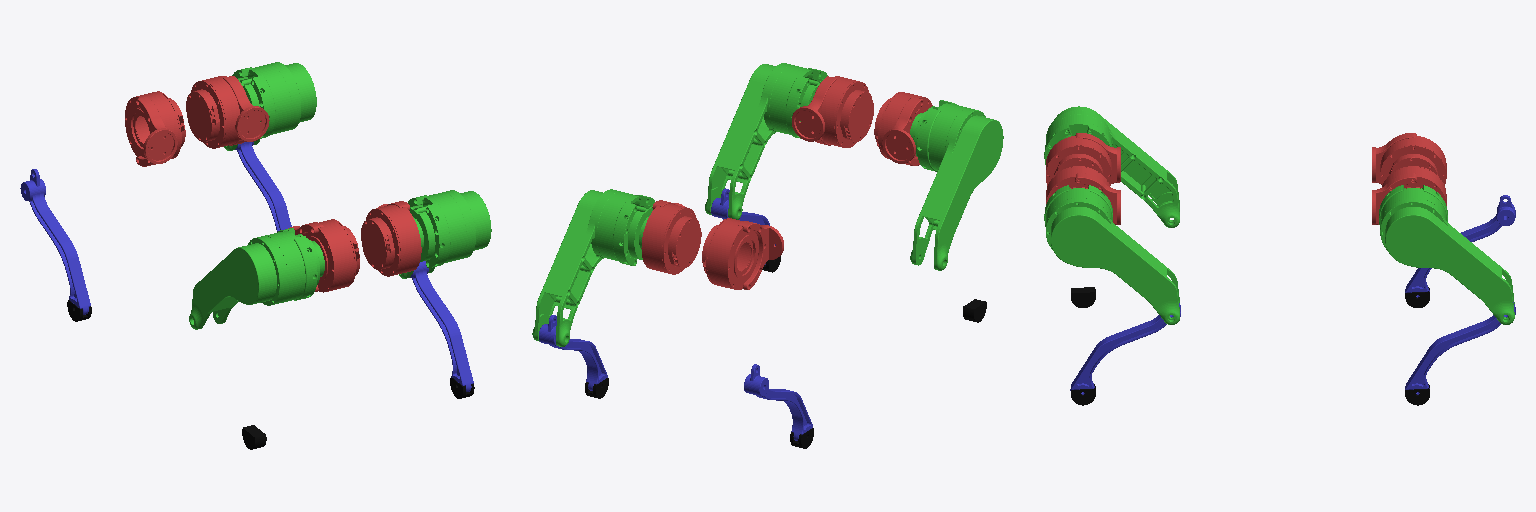
URDF robot description (CRA_373):
<?xml version="1.0" encoding="utf-8"?>
<!--
  CRA-373 Quadruped Robot URDF (Isaac Sim Version)
  Generated: 2026-08-11
  
  Coordinate: Z-up (Isaac Sim / USD standard)
  All mesh transforms baked into STL vertices
  Mesh unit: meters (scale="1 1 1")
  Path: ASCII only, no special characters

  [sim] 2026-09-15 modifications for Isaac Lab / RL training. Search "[sim]" for the list.
  1. Joint velocity limit 209.44 -> 20.944 rad/s on all 12 revolute joints.
     The actuator model gives the joint (output-side) no-load speed as 200 rpm = 20.944 rad/s
     (XB42MCfg.max_velocity). The old value is 209.44 rad/s = 2000 rpm, exactly 10x that, so it
     is a decimal slip rather than a gear-ratio confusion (the reducer is 1:9, not 1:10).
     Isaac Lab writes this to PhysX as velocity_limit_sim, so the error let the joints spin ten
     times faster than the real actuator can.
  2. FR_hip / FL_hip inertial block mirrored in y.
     The front hip MESH is the rear hip mirrored about the x-z plane (mesh centre y -0.0607 vs
     +0.0607), but the inertial block was copied from the rear unchanged, putting 1.45 kg of
     hip mass 0.118 m away from its own geometry on both front legs. com y and the ixy / iyz
     products are now mirrored to match.
  3. Foot inertial origin moved from the link frame origin to the foot geometry.
     The foot link frame sits at the calf joint + (0, 0.154173, 0), while the baked foot mesh
     sits at (+-0.0145, -0.2949, -0.1487) in that frame, i.e. 0.33 m away. The 0.05 kg foot mass
     was therefore placed near the knee instead of at the toe, adding ~0.0054 kg m^2 of phantom
     inertia about the knee (the calf's own ixx is only 0.0043). The inertia tensor is now the
     solid-box estimate for the 20 x 40 x 28.5 mm pad instead of the 1e-4 placeholder.

  4. Collision geometry now points at meshes/collision/, the precomputed convex hulls written
     by scripts/make_collision_meshes.py (530,757 triangles -> 8,152 over the 17 links).
     The importer is configured with collider_type=convex_hull, so PhysX reduced each mesh to
     its hull anyway; precomputing it means the hull is not re-cooked from 539k vertices on
     every load. The collision shape is unchanged. <visual> still uses the full-resolution
     meshes, so the robot still looks like the CAD export.

  NOT changed on purpose:
  - Joint <dynamics>: absent, so damping = friction = 0. Joint friction is modelled once inside
    cra373/actuator/XB42M.py (Coulomb 0.67 Nm); do not also add it here.
  - effort="60.0": XB42M is an explicit actuator, so Isaac sets effort_limit_sim = 1e9 and the
    real torque ceiling is the T-N curve inside XB42MActuator.compute().
  - Masses and inertia magnitudes: 68.16 kg total is confirmed by the robot owner.
-->
<robot name="CRA_373">

  <material name="body_color">  <color rgba="0.50 0.60 0.70 1.0"/> </material>
  <material name="hip_color">   <color rgba="0.80 0.30 0.30 1.0"/> </material>
  <material name="thigh_color"> <color rgba="0.30 0.80 0.30 1.0"/> </material>
  <material name="calf_color">  <color rgba="0.30 0.30 0.80 1.0"/> </material>
  <material name="foot_color">  <color rgba="0.10 0.10 0.10 1.0"/> </material>

  <!-- ==================== BASE LINK ==================== -->
  <link name="base_link">
    <inertial>
      <!-- [sim] com x 0.016986 -> 0, and the ixy / ixz products -> 0.
           The body is left-right symmetric: the base mesh bounding box is centred at x = 0.000
           and the four hip joints sit at x = +-0.081. A centre of mass 17 mm off that centreline
           contradicts the geometry, and on 44.8 kg it is a standing lateral moment the policy
           has to fight every step. Measured on the policy trained with the offset: commanded
           straight ahead at 2 m/s the robot slid 1.32 m sideways over 17 m.
           For a body symmetric about the x = 0 plane the integrals for ixy and ixz vanish too,
           so those are zeroed; iyz is unaffected by that symmetry and is left alone. -->
      <origin xyz="0.0 -0.203646 -0.005118" rpy="0 0 0"/>
      <mass value="44.830903"/>
      <inertia ixx="0.727300" ixy="0.0" ixz="0.0"
               iyy="0.350700" iyz="0.022770" izz="0.952300"/>
    </inertial>
    <visual>
      <origin xyz="0 0 0" rpy="0 0 0"/>
      <geometry>
        <mesh filename="meshes/base_link.stl"/>
      </geometry>
      <material name="body_color"/>
    </visual>
    <collision>
      <origin xyz="0 0 0" rpy="0 0 0"/>
      <geometry>
        <mesh filename="meshes/collision/base_link.stl"/>
      </geometry>
    </collision>
  </link>

  <!-- ==================== RR LEG (Right Rear) ==================== -->
  <link name="RR_hip">
    <inertial>
      <origin xyz="0.020377 0.059012 0.000393" rpy="0 0 0"/>
      <mass value="1.454366"/>
      <inertia ixx="0.002957" ixy="-0.000229" ixz="0.000003"
               iyy="0.001744" iyz="-0.000001" izz="0.002087"/>
    </inertial>
    <visual>
      <origin xyz="0 0 0" rpy="0 0 0"/>
      <geometry><mesh filename="meshes/RR_hip.stl"/></geometry>
      <material name="hip_color"/>
    </visual>
    <collision>
      <origin xyz="0 0 0" rpy="0 0 0"/>
      <geometry><mesh filename="meshes/collision/RR_hip.stl"/></geometry>
    </collision>
  </link>
  <link name="RR_thigh">
    <inertial>
      <origin xyz="-0.070367 0.023197 -0.015690" rpy="0 0 0"/>
      <mass value="3.728289"/>
      <inertia ixx="0.017610" ixy="0.003081" ixz="-0.002084"
               iyy="0.012070" iyz="0.005899" izz="0.015480"/>
    </inertial>
    <visual>
      <origin xyz="0 0 0" rpy="0 0 0"/>
      <geometry><mesh filename="meshes/RR_thigh.stl"/></geometry>
      <material name="thigh_color"/>
    </visual>
    <collision>
      <origin xyz="0 0 0" rpy="0 0 0"/>
      <geometry><mesh filename="meshes/collision/RR_thigh.stl"/></geometry>
    </collision>
  </link>
  <link name="RR_calf">
    <inertial>
      <origin xyz="-0.014441 -0.078492 -0.067892" rpy="0 0 0"/>
      <mass value="0.600330"/>
      <inertia ixx="0.004290" ixy="-0.000003" ixz="-0.000003"
               iyy="0.002116" iyz="-0.002034" izz="0.002219"/>
    </inertial>
    <visual>
      <origin xyz="0 0 0" rpy="0 0 0"/>
      <geometry><mesh filename="meshes/RR_calf.stl"/></geometry>
      <material name="calf_color"/>
    </visual>
    <collision>
      <origin xyz="0 0 0" rpy="0 0 0"/>
      <geometry><mesh filename="meshes/collision/RR_calf.stl"/></geometry>
    </collision>
  </link>
  <link name="RR_foot">
    <inertial><origin xyz="-0.014499 -0.294911 -0.148672" rpy="0 0 0"/><mass value="0.05"/>
      <inertia ixx="1.004e-05" ixy="0" ixz="0" iyy="5.041e-06" iyz="0" izz="8.333e-06"/></inertial>
    <visual>
      <origin xyz="0 0 0" rpy="0 0 0"/>
      <geometry><mesh filename="meshes/RR_foot.stl"/></geometry>
      <material name="foot_color"/>
    </visual>
    <collision>
      <origin xyz="0 0 0" rpy="0 0 0"/>
      <geometry><mesh filename="meshes/collision/RR_foot.stl"/></geometry>
    </collision>
  </link>

  <joint name="RR_hip_joint" type="revolute">
    <parent link="base_link"/><child link="RR_hip"/>
    <origin xyz="-0.081 -0.005 0.0" rpy="0 0 0"/>
    <axis xyz="0 1 0"/>
    <limit lower="-1.5708" upper="1.5708" effort="60.0" velocity="20.944"/>
  </joint>
  <joint name="RR_thigh_joint" type="revolute">
    <parent link="RR_hip"/><child link="RR_thigh"/>
    <origin xyz="0.0015 0.0675 0.0" rpy="0 0 0"/>
    <axis xyz="1 0 0"/>
    <limit lower="-1.5708" upper="0.7854" effort="60.0" velocity="20.944"/>
  </joint>
  <joint name="RR_calf_joint" type="revolute">
    <parent link="RR_thigh"/><child link="RR_calf"/>
    <origin xyz="-0.0894 0.148022 -0.134497" rpy="0 0 0"/>
    <axis xyz="1 0 0"/>
    <limit lower="-1.0821" upper="1.0821" effort="60.0" velocity="20.944"/>
  </joint>
  <joint name="RR_foot_fixed" type="fixed">
    <parent link="RR_calf"/><child link="RR_foot"/>
    <origin xyz="0.0 0.154173 0.0" rpy="0 0 0"/>
  </joint>

  <!-- ==================== FR LEG (Right Front) ==================== -->
  <link name="FR_hip">
    <inertial>
      <origin xyz="0.020377 -0.059012 0.000393" rpy="0 0 0"/>
      <mass value="1.454366"/>
      <inertia ixx="0.002957" ixy="0.000229" ixz="0.000003"
               iyy="0.001744" iyz="0.000001" izz="0.002087"/>
    </inertial>
    <visual>
      <origin xyz="0 0 0" rpy="0 0 0"/>
      <geometry><mesh filename="meshes/FR_hip.stl"/></geometry>
      <material name="hip_color"/>
    </visual>
    <collision>
      <origin xyz="0 0 0" rpy="0 0 0"/>
      <geometry><mesh filename="meshes/collision/FR_hip.stl"/></geometry>
    </collision>
  </link>
  <link name="FR_thigh">
    <inertial>
      <origin xyz="-0.070367 0.023197 -0.015690" rpy="0 0 0"/>
      <mass value="3.728289"/>
      <inertia ixx="0.017610" ixy="0.003081" ixz="-0.002084"
               iyy="0.012070" iyz="0.005899" izz="0.015480"/>
    </inertial>
    <visual>
      <origin xyz="0 0 0" rpy="0 0 0"/>
      <geometry><mesh filename="meshes/FR_thigh.stl"/></geometry>
      <material name="thigh_color"/>
    </visual>
    <collision>
      <origin xyz="0 0 0" rpy="0 0 0"/>
      <geometry><mesh filename="meshes/collision/FR_thigh.stl"/></geometry>
    </collision>
  </link>
  <link name="FR_calf">
    <inertial>
      <origin xyz="-0.014441 -0.078492 -0.067892" rpy="0 0 0"/>
      <mass value="0.600330"/>
      <inertia ixx="0.004290" ixy="-0.000003" ixz="-0.000003"
               iyy="0.002116" iyz="-0.002034" izz="0.002219"/>
    </inertial>
    <visual>
      <origin xyz="0 0 0" rpy="0 0 0"/>
      <geometry><mesh filename="meshes/FR_calf.stl"/></geometry>
      <material name="calf_color"/>
    </visual>
    <collision>
      <origin xyz="0 0 0" rpy="0 0 0"/>
      <geometry><mesh filename="meshes/collision/FR_calf.stl"/></geometry>
    </collision>
  </link>
  <link name="FR_foot">
    <inertial><origin xyz="-0.014499 -0.294911 -0.148672" rpy="0 0 0"/><mass value="0.05"/>
      <inertia ixx="1.004e-05" ixy="0" ixz="0" iyy="5.041e-06" iyz="0" izz="8.333e-06"/></inertial>
    <visual>
      <origin xyz="0 0 0" rpy="0 0 0"/>
      <geometry><mesh filename="meshes/FR_foot.stl"/></geometry>
      <material name="foot_color"/>
    </visual>
    <collision>
      <origin xyz="0 0 0" rpy="0 0 0"/>
      <geometry><mesh filename="meshes/collision/FR_foot.stl"/></geometry>
    </collision>
  </link>

  <joint name="FR_hip_joint" type="revolute">
    <parent link="base_link"/><child link="FR_hip"/>
    <origin xyz="-0.081 -0.404 0.0" rpy="0 0 0"/>
    <axis xyz="0 1 0"/>
    <limit lower="-1.5708" upper="1.5708" effort="60.0" velocity="20.944"/>
  </joint>
  <joint name="FR_thigh_joint" type="revolute">
    <parent link="FR_hip"/><child link="FR_thigh"/>
    <origin xyz="0.0015 -0.0675 0.0" rpy="0 0 0"/>
    <axis xyz="1 0 0"/>
    <limit lower="-1.5708" upper="0.7854" effort="60.0" velocity="20.944"/>
  </joint>
  <joint name="FR_calf_joint" type="revolute">
    <parent link="FR_thigh"/><child link="FR_calf"/>
    <origin xyz="-0.0894 0.148022 -0.134497" rpy="0 0 0"/>
    <axis xyz="1 0 0"/>
    <limit lower="-1.0821" upper="1.0821" effort="60.0" velocity="20.944"/>
  </joint>
  <joint name="FR_foot_fixed" type="fixed">
    <parent link="FR_calf"/><child link="FR_foot"/>
    <origin xyz="0.0 0.154173 0.0" rpy="0 0 0"/>
  </joint>

  <!-- ==================== RL LEG (Left Rear) ==================== -->
  <link name="RL_hip">
    <inertial>
      <origin xyz="-0.020377 0.059012 0.000393" rpy="0 0 0"/>
      <mass value="1.454366"/>
      <inertia ixx="0.002957" ixy="0.000229" ixz="-0.000003"
               iyy="0.001744" iyz="-0.000001" izz="0.002087"/>
    </inertial>
    <visual>
      <origin xyz="0 0 0" rpy="0 0 0"/>
      <geometry><mesh filename="meshes/RL_hip.stl"/></geometry>
      <material name="hip_color"/>
    </visual>
    <collision>
      <origin xyz="0 0 0" rpy="0 0 0"/>
      <geometry><mesh filename="meshes/collision/RL_hip.stl"/></geometry>
    </collision>
  </link>
  <link name="RL_thigh">
    <inertial>
      <origin xyz="0.070367 0.023197 -0.015690" rpy="0 0 0"/>
      <mass value="3.728289"/>
      <inertia ixx="0.017610" ixy="-0.003081" ixz="0.002084"
               iyy="0.012070" iyz="0.005899" izz="0.015480"/>
    </inertial>
    <visual>
      <origin xyz="0 0 0" rpy="0 0 0"/>
      <geometry><mesh filename="meshes/RL_thigh.stl"/></geometry>
      <material name="thigh_color"/>
    </visual>
    <collision>
      <origin xyz="0 0 0" rpy="0 0 0"/>
      <geometry><mesh filename="meshes/collision/RL_thigh.stl"/></geometry>
    </collision>
  </link>
  <link name="RL_calf">
    <inertial>
      <origin xyz="0.014441 -0.078492 -0.067892" rpy="0 0 0"/>
      <mass value="0.600330"/>
      <inertia ixx="0.004290" ixy="0.000003" ixz="0.000003"
               iyy="0.002116" iyz="-0.002034" izz="0.002219"/>
    </inertial>
    <visual>
      <origin xyz="0 0 0" rpy="0 0 0"/>
      <geometry><mesh filename="meshes/RL_calf.stl"/></geometry>
      <material name="calf_color"/>
    </visual>
    <collision>
      <origin xyz="0 0 0" rpy="0 0 0"/>
      <geometry><mesh filename="meshes/collision/RL_calf.stl"/></geometry>
    </collision>
  </link>
  <link name="RL_foot">
    <inertial><origin xyz="0.014501 -0.294911 -0.148671" rpy="0 0 0"/><mass value="0.05"/>
      <inertia ixx="1.004e-05" ixy="0" ixz="0" iyy="5.041e-06" iyz="0" izz="8.333e-06"/></inertial>
    <visual>
      <origin xyz="0 0 0" rpy="0 0 0"/>
      <geometry><mesh filename="meshes/RL_foot.stl"/></geometry>
      <material name="foot_color"/>
    </visual>
    <collision>
      <origin xyz="0 0 0" rpy="0 0 0"/>
      <geometry><mesh filename="meshes/collision/RL_foot.stl"/></geometry>
    </collision>
  </link>

  <joint name="RL_hip_joint" type="revolute">
    <parent link="base_link"/><child link="RL_hip"/>
    <origin xyz="0.081 -0.005 0.0" rpy="0 0 0"/>
    <axis xyz="0 1 0"/>
    <limit lower="-1.5708" upper="1.5708" effort="60.0" velocity="20.944"/>
  </joint>
  <joint name="RL_thigh_joint" type="revolute">
    <parent link="RL_hip"/><child link="RL_thigh"/>
    <origin xyz="-0.0015 0.0675 0.0" rpy="0 0 0"/>
    <axis xyz="1 0 0"/>
    <limit lower="-1.5708" upper="0.7854" effort="60.0" velocity="20.944"/>
  </joint>
  <joint name="RL_calf_joint" type="revolute">
    <parent link="RL_thigh"/><child link="RL_calf"/>
    <origin xyz="0.0894 0.148022 -0.134497" rpy="0 0 0"/>
    <axis xyz="1 0 0"/>
    <limit lower="-1.0821" upper="1.0821" effort="60.0" velocity="20.944"/>
  </joint>
  <joint name="RL_foot_fixed" type="fixed">
    <parent link="RL_calf"/><child link="RL_foot"/>
    <origin xyz="0.0 0.154173 0.0" rpy="0 0 0"/>
  </joint>

  <!-- ==================== FL LEG (Left Front) ==================== -->
  <link name="FL_hip">
    <inertial>
      <origin xyz="-0.020377 -0.059012 0.000393" rpy="0 0 0"/>
      <mass value="1.454366"/>
      <inertia ixx="0.002957" ixy="-0.000229" ixz="-0.000003"
               iyy="0.001744" iyz="0.000001" izz="0.002087"/>
    </inertial>
    <visual>
      <origin xyz="0 0 0" rpy="0 0 0"/>
      <geometry><mesh filename="meshes/FL_hip.stl"/></geometry>
      <material name="hip_color"/>
    </visual>
    <collision>
      <origin xyz="0 0 0" rpy="0 0 0"/>
      <geometry><mesh filename="meshes/collision/FL_hip.stl"/></geometry>
    </collision>
  </link>
  <link name="FL_thigh">
    <inertial>
      <origin xyz="0.070367 0.023197 -0.015690" rpy="0 0 0"/>
      <mass value="3.728289"/>
      <inertia ixx="0.017610" ixy="-0.003081" ixz="0.002084"
               iyy="0.012070" iyz="0.005899" izz="0.015480"/>
    </inertial>
    <visual>
      <origin xyz="0 0 0" rpy="0 0 0"/>
      <geometry><mesh filename="meshes/FL_thigh.stl"/></geometry>
      <material name="thigh_color"/>
    </visual>
    <collision>
      <origin xyz="0 0 0" rpy="0 0 0"/>
      <geometry><mesh filename="meshes/collision/FL_thigh.stl"/></geometry>
    </collision>
  </link>
  <link name="FL_calf">
    <inertial>
      <origin xyz="0.014441 -0.078492 -0.067892" rpy="0 0 0"/>
      <mass value="0.600330"/>
      <inertia ixx="0.004290" ixy="0.000003" ixz="0.000003"
               iyy="0.002116" iyz="-0.002034" izz="0.002219"/>
    </inertial>
    <visual>
      <origin xyz="0 0 0" rpy="0 0 0"/>
      <geometry><mesh filename="meshes/FL_calf.stl"/></geometry>
      <material name="calf_color"/>
    </visual>
    <collision>
      <origin xyz="0 0 0" rpy="0 0 0"/>
      <geometry><mesh filename="meshes/collision/FL_calf.stl"/></geometry>
    </collision>
  </link>
  <link name="FL_foot">
    <inertial><origin xyz="0.014499 -0.294912 -0.148672" rpy="0 0 0"/><mass value="0.05"/>
      <inertia ixx="1.004e-05" ixy="0" ixz="0" iyy="5.041e-06" iyz="0" izz="8.333e-06"/></inertial>
    <visual>
      <origin xyz="0 0 0" rpy="0 0 0"/>
      <geometry><mesh filename="meshes/FL_foot.stl"/></geometry>
      <material name="foot_color"/>
    </visual>
    <collision>
      <origin xyz="0 0 0" rpy="0 0 0"/>
      <geometry><mesh filename="meshes/collision/FL_foot.stl"/></geometry>
    </collision>
  </link>

  <joint name="FL_hip_joint" type="revolute">
    <parent link="base_link"/><child link="FL_hip"/>
    <origin xyz="0.081 -0.404 0.0" rpy="0 0 0"/>
    <axis xyz="0 1 0"/>
    <limit lower="-1.5708" upper="1.5708" effort="60.0" velocity="20.944"/>
  </joint>
  <joint name="FL_thigh_joint" type="revolute">
    <parent link="FL_hip"/><child link="FL_thigh"/>
    <origin xyz="-0.0015 -0.0675 0.0" rpy="0 0 0"/>
    <axis xyz="1 0 0"/>
    <limit lower="-1.5708" upper="0.7854" effort="60.0" velocity="20.944"/>
  </joint>
  <joint name="FL_calf_joint" type="revolute">
    <parent link="FL_thigh"/><child link="FL_calf"/>
    <origin xyz="0.0894 0.148022 -0.134497" rpy="0 0 0"/>
    <axis xyz="1 0 0"/>
    <limit lower="-1.0821" upper="1.0821" effort="60.0" velocity="20.944"/>
  </joint>
  <joint name="FL_foot_fixed" type="fixed">
    <parent link="FL_calf"/><child link="FL_foot"/>
    <origin xyz="0.0 0.154173 0.0" rpy="0 0 0"/>
  </joint>

</robot>

--- Facts derived from the render (not from the file) ---
Views: 3 orthographic renders of the robot side by side, from view 1: azimuth 30°, elevation 25°; view 2: azimuth 150°, elevation 25°; view 3: azimuth 270°, elevation 25°.
Model CRA_373 with 17 links and 16 joints (12 revolute, 4 fixed), rooted at base_link, posed every joint at zero.
Visible links, largest first — view 1: FR_thigh, FL_thigh, RL_hip, RL_thigh, RR_hip, FL_hip, FR_hip, RR_calf, FL_calf, RL_calf; view 2: FR_thigh, RL_thigh, FL_thigh, FL_hip, RR_hip, RL_hip, FR_hip, RR_calf, RL_calf, FL_calf; view 3: RL_thigh, FL_thigh, FR_thigh, FR_hip, RR_hip, FL_calf, RL_calf, FL_hip, RL_hip, RR_calf.
Link boxes in pixels (left/top/right/bottom): FR_thigh: left=189, top=228, right=324, bottom=329; FL_thigh: left=399, top=190, right=491, bottom=278; RL_hip: left=186, top=76, right=269, bottom=148; RL_thigh: left=224, top=62, right=316, bottom=150; RR_hip: left=125, top=91, right=185, bottom=166; FL_hip: left=361, top=201, right=421, bottom=276; FR_hip: left=288, top=219, right=359, bottom=292; RR_calf: left=20, top=169, right=90, bottom=314; FL_calf: left=410, top=261, right=473, bottom=391; RL_calf: left=235, top=142, right=291, bottom=231; FR_thigh: left=910, top=100, right=1003, bottom=270; RL_thigh: left=532, top=189, right=654, bottom=346; FL_thigh: left=705, top=63, right=827, bottom=219; FL_hip: left=792, top=76, right=873, bottom=147; RR_hip: left=702, top=218, right=783, bottom=289; RL_hip: left=641, top=200, right=701, bottom=274; FR_hip: left=874, top=92, right=932, bottom=165; RR_calf: left=744, top=364, right=812, bottom=440; RL_calf: left=539, top=315, right=607, bottom=390; FL_calf: left=711, top=188, right=775, bottom=264; RL_thigh: left=1379, top=185, right=1514, bottom=324; FL_thigh: left=1044, top=185, right=1179, bottom=324; FR_thigh: left=1044, top=106, right=1179, bottom=227; FR_hip: left=1046, top=133, right=1120, bottom=185; RR_hip: left=1372, top=133, right=1446, bottom=185; FL_calf: left=1070, top=303, right=1180, bottom=394; RL_calf: left=1405, top=302, right=1515, bottom=394; FL_hip: left=1046, top=166, right=1120, bottom=224; RL_hip: left=1372, top=166, right=1446, bottom=224; RR_calf: left=1405, top=195, right=1515, bottom=297.
Bounding box of the posed robot: 0.4228 × 0.752 × 0.3512 m (x, y, z).
14 mesh visuals loaded from 17 distinct referenced files (14 binary STL); not drawn: 3 (reference not matched to a file when rendering).
